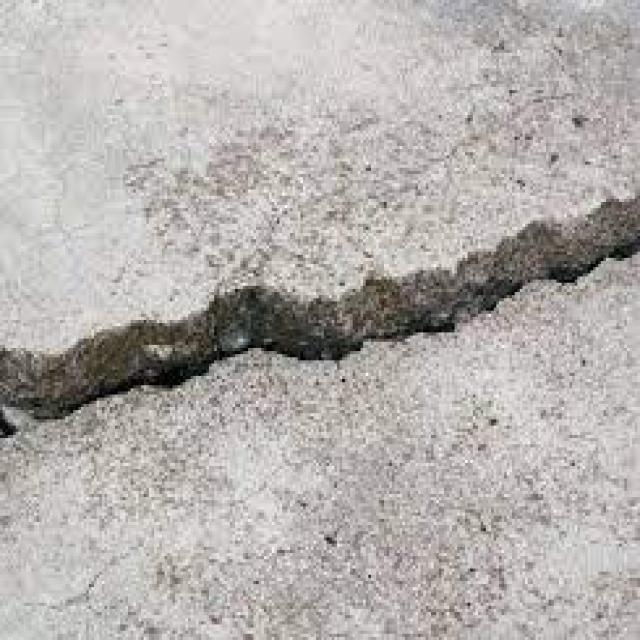horizontal crack: (0, 182, 640, 436)
